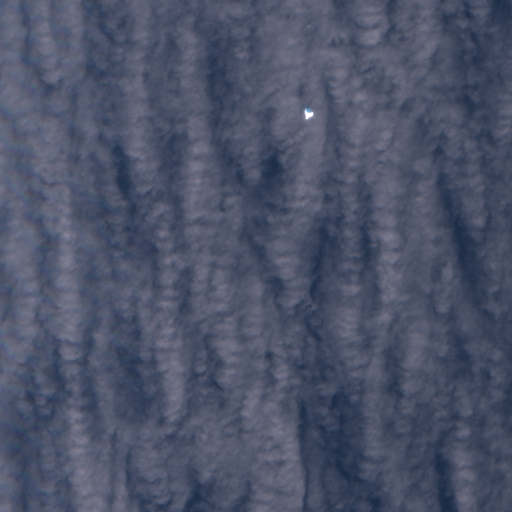Iceberg: (304, 108, 313, 119)
